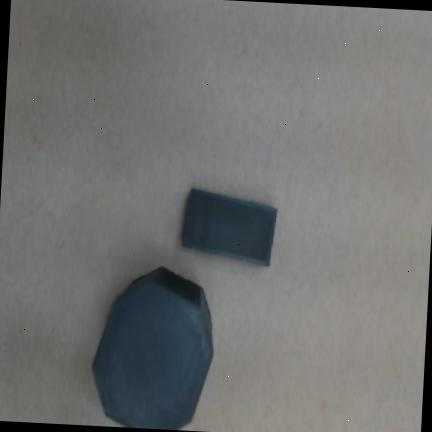Paralelepipedo: (182, 188, 278, 267)
Prisma_hexagonal: (91, 266, 214, 430)
